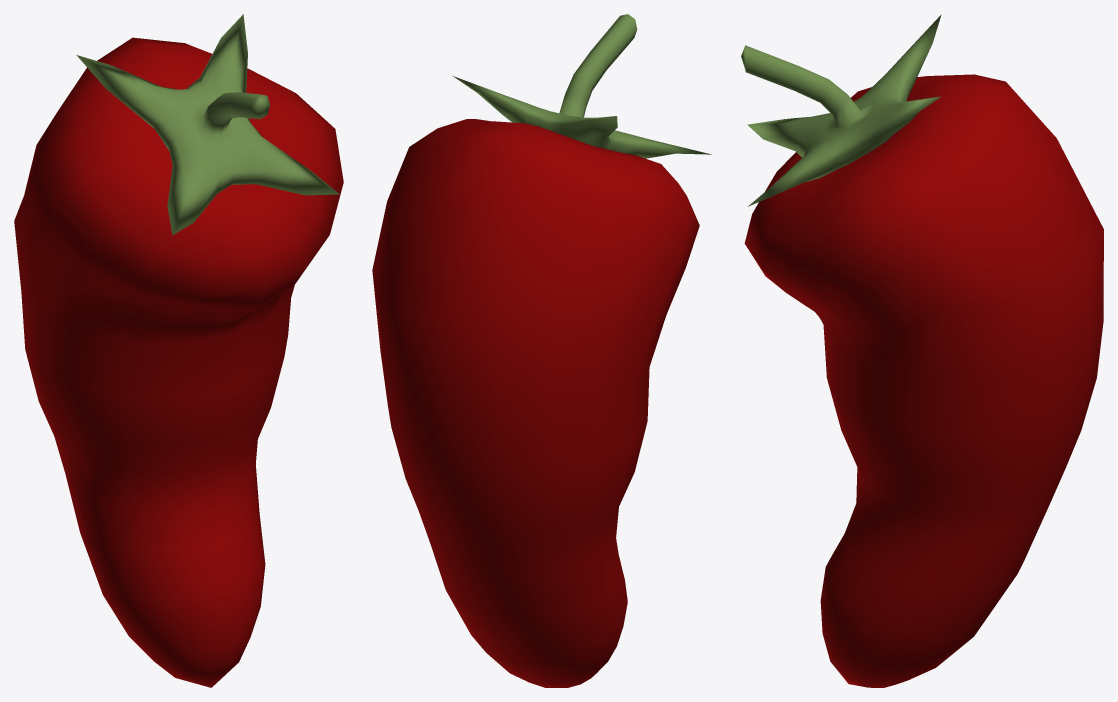
Rendered from slightly more shriveled pepper.fbx.
The picture shows the model from 3 angles, left to right: view 1: azimuth 30°, elevation 25°; view 2: azimuth 150°, elevation 25°; view 3: azimuth 270°, elevation 25°; orthographic projection. The views are drawn at different scales.
Visible parts, largest first — view 1: pasted__pCylinder2; view 2: pasted__pCylinder2; view 3: pasted__pCylinder2.
Boxes of the visible parts, x1,y1,x2,y2 form: pasted__pCylinder2: [14, 14, 343, 687]; pasted__pCylinder2: [372, 14, 711, 687]; pasted__pCylinder2: [741, 14, 1103, 687].
Bounding box in the file's own units: 1.07 × 2.28 × 1.18.
